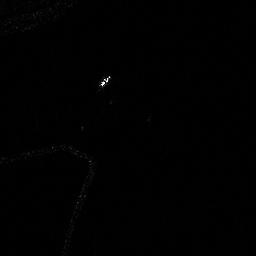ship: (99, 74, 113, 87)
